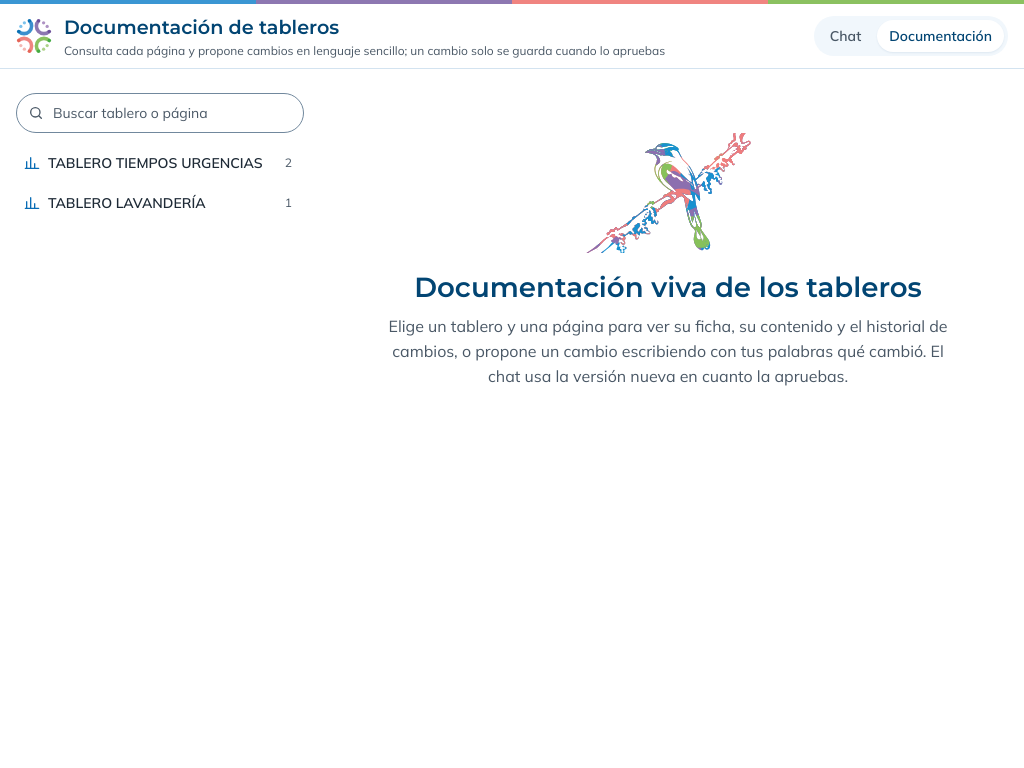
Test case: Documentación: proponer y revisar › muestra la revisión con un diff legible sin color
This screenshot has width=1024, height=768.
Click the button "TABLERO TIEMPOS URGENCIAS 2" at (158, 163), box [16,145,300,181]
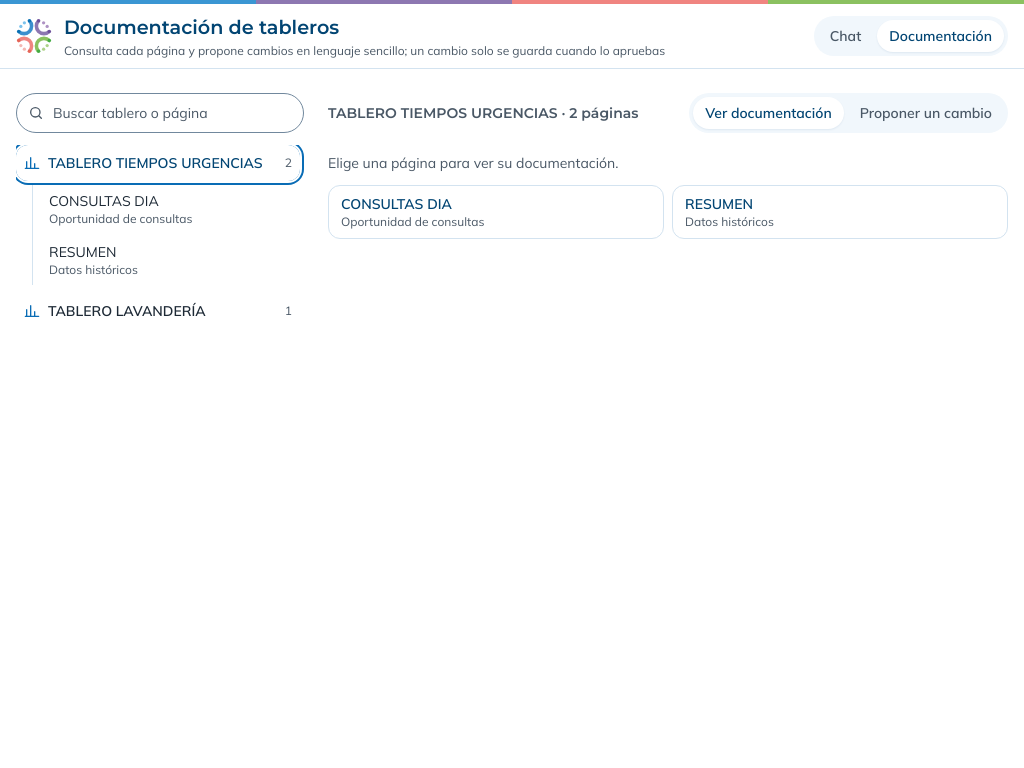
Click the 1st button "CONSULTAS DIA Oportunidad de consultas" at (170, 209), box [41,185,300,233]
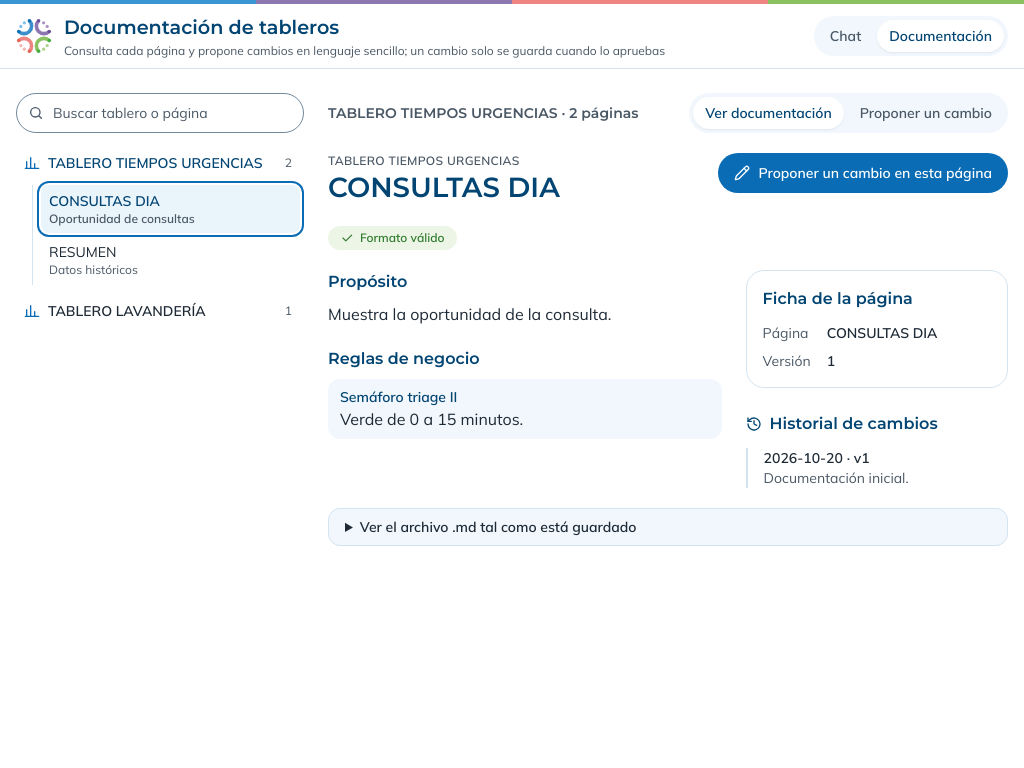
Expected: the heading "CONSULTAS DIA" is shown, [328,170,560,204]
Click the button "Proponer un cambio en esta página" at (863, 173), box [718,153,1008,193]
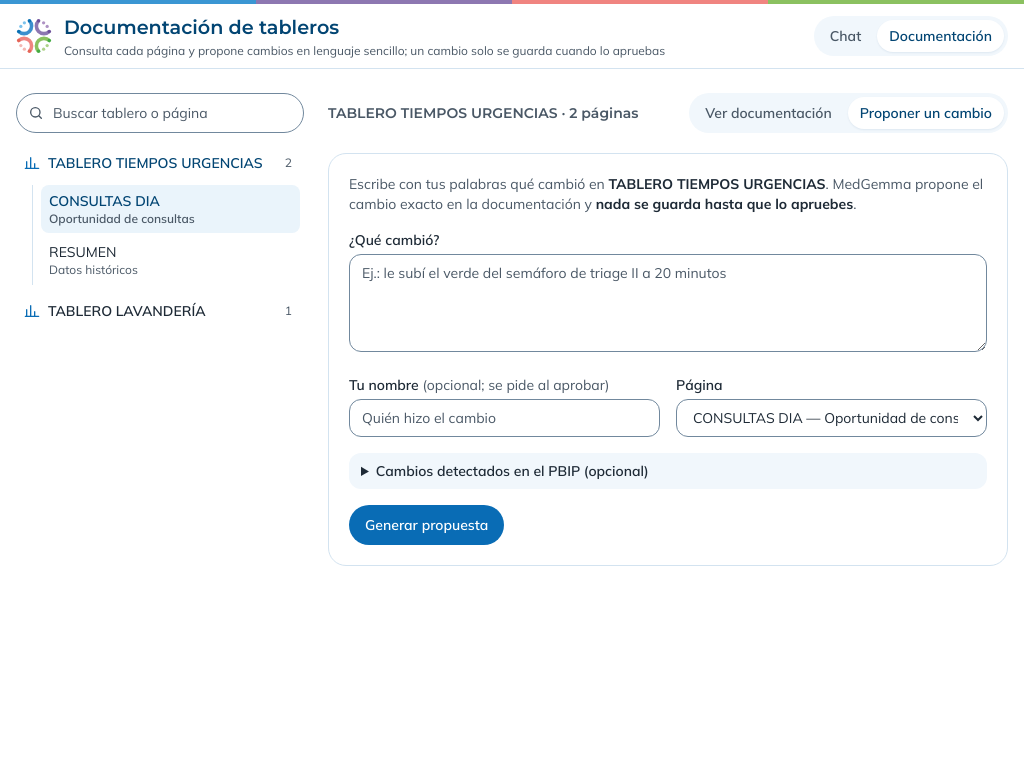
Type "subí el verde del semáforo a 20" into the text box labelled "¿Qué cambió?" at (668, 303), box [349,254,987,352]
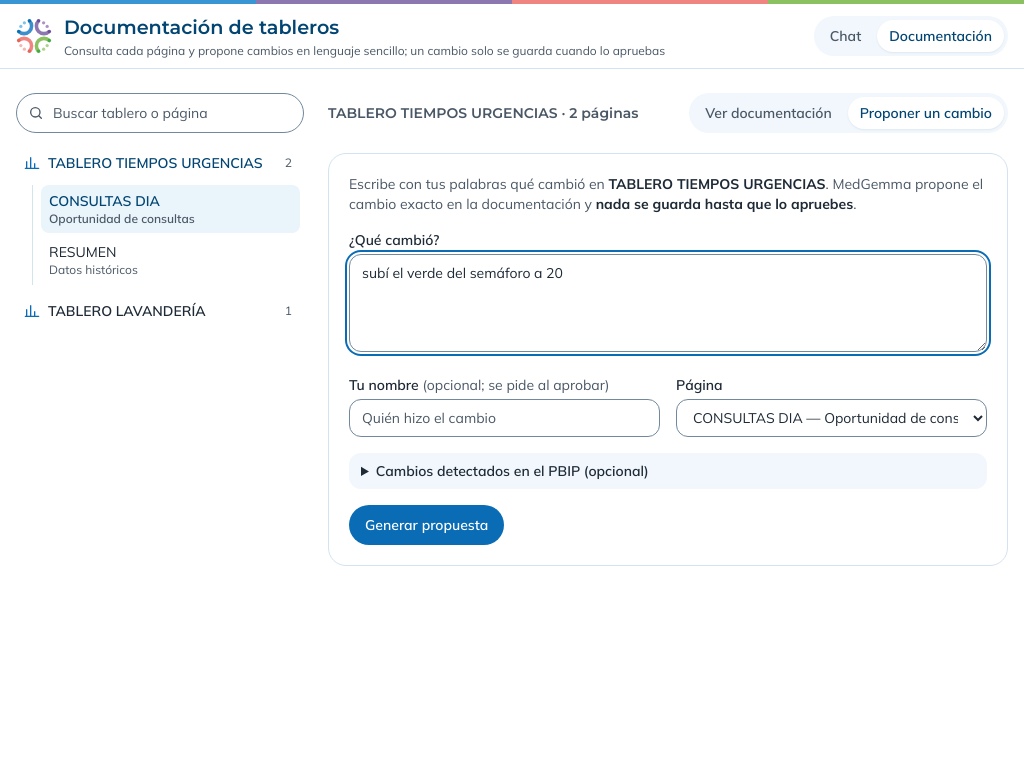
Click the button "Generar propuesta" at (427, 525), box [349,505,504,545]
(page scrolled)
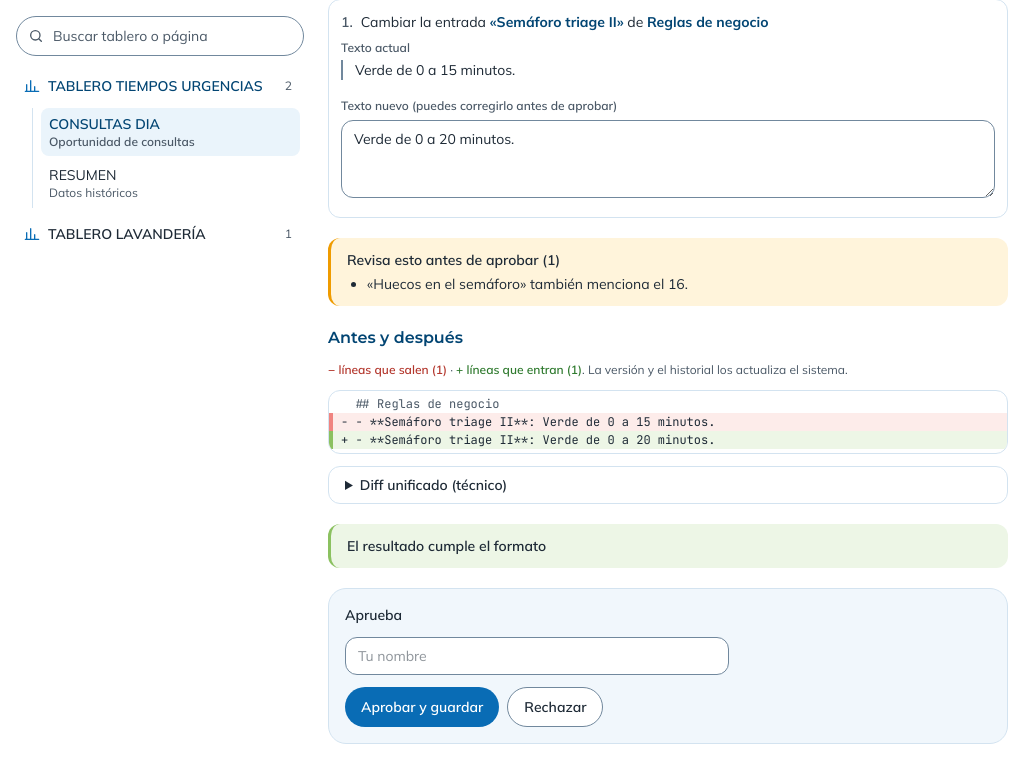
Expected: the text "Revisa esto antes de aprobar (1)" is shown, [347,251,560,269]
Expected: the text "El resultado cumple el formato" is shown, [347,537,546,555]
